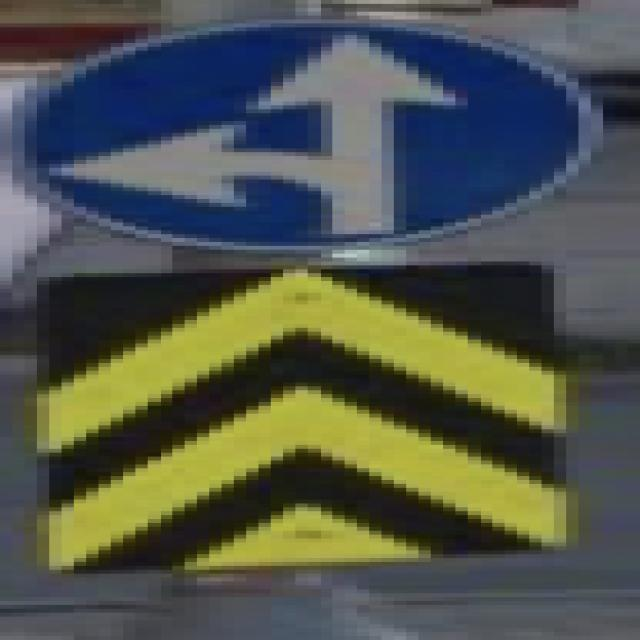Straight or Left: (19, 21, 598, 251)
